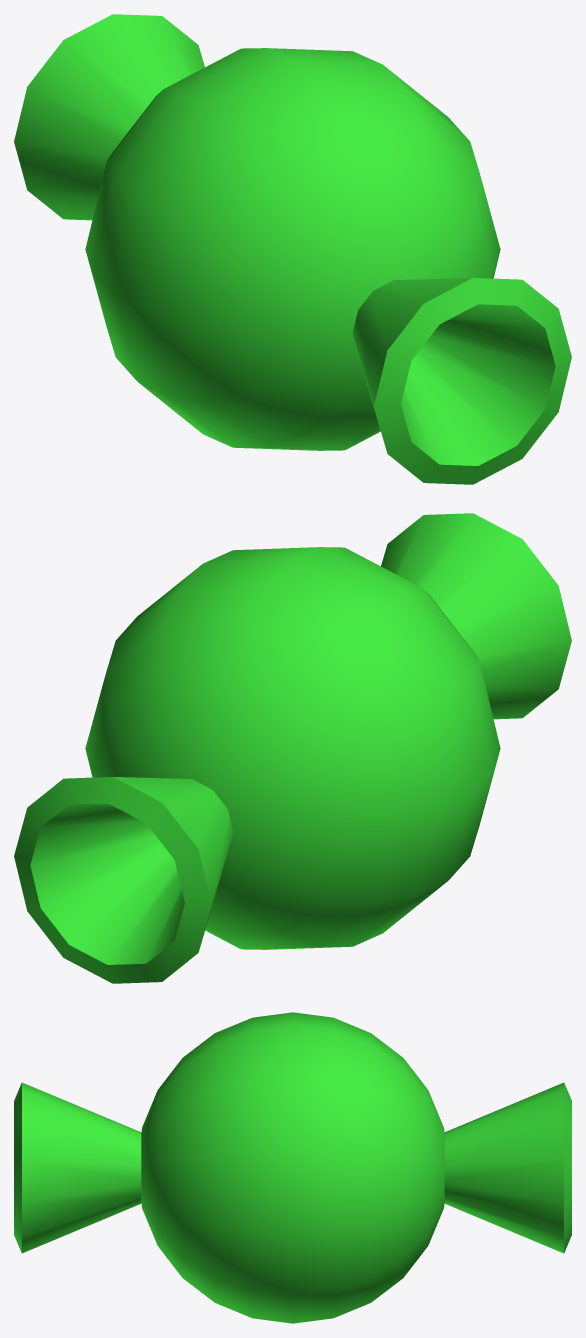
The model's file is Candy.fbx.
3 renders of one model, top to bottom at view 1: azimuth 30°, elevation 25°; view 2: azimuth 150°, elevation 25°; view 3: azimuth 270°, elevation 25°, orthographic. The views are drawn at different scales.
Parts seen in each view (by area): view 1: Candy; view 2: Candy; view 3: Candy.
Part boxes in pixels (x1=…): Candy: x1=14, y1=14, x2=571, y2=484; Candy: x1=14, y1=513, x2=571, y2=983; Candy: x1=14, y1=1012, x2=571, y2=1323.
Bounding box in the file's own units: 200 × 200 × 357.
